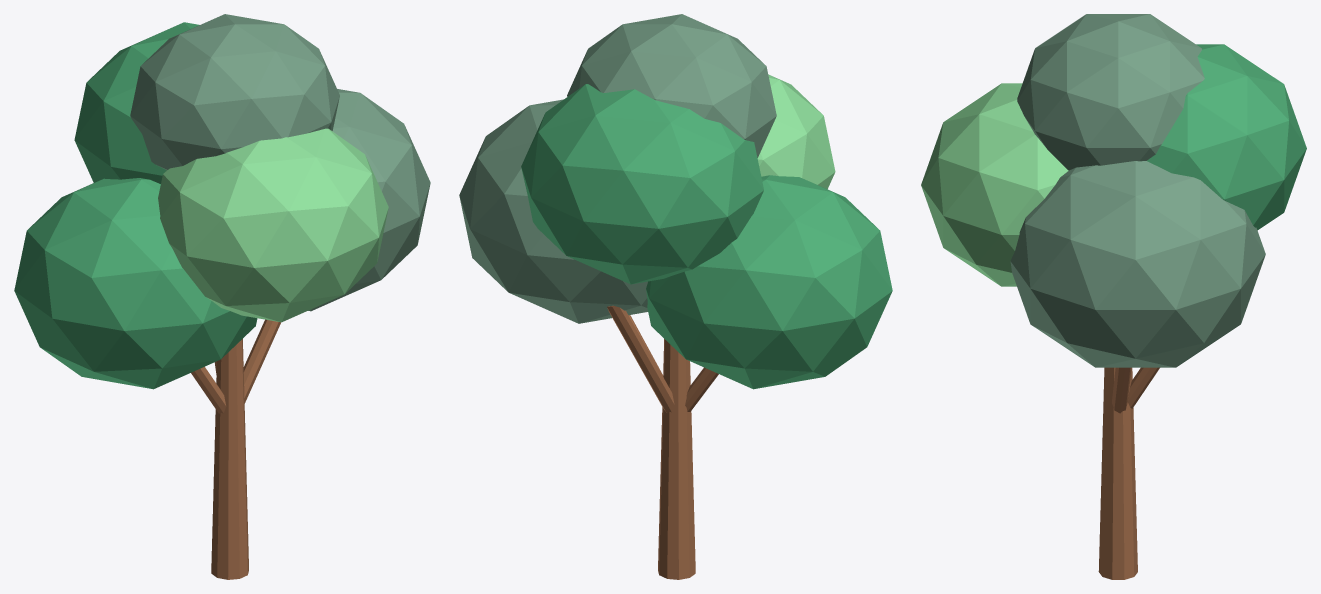
File: tree_maple_large.glb
3 renders of one model, left to right at view 1: azimuth 30°, elevation 25°; view 2: azimuth 150°, elevation 25°; view 3: azimuth 270°, elevation 25°, orthographic.
Visible parts, largest first — view 1: tree_maple_large_Mesh; view 2: tree_maple_large_Mesh; view 3: tree_maple_large_Mesh.
Part boxes in pixels (left/top/right/bottom): tree_maple_large_Mesh: left=14, top=14, right=430, bottom=579; tree_maple_large_Mesh: left=459, top=14, right=892, bottom=579; tree_maple_large_Mesh: left=921, top=14, right=1306, bottom=579.
Bounding box in the file's own units: 7.82 × 10.58 × 6.69.
